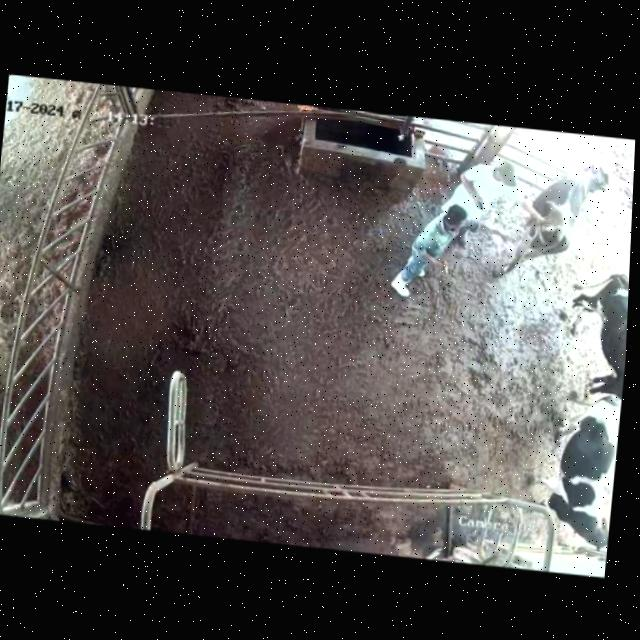stand: (530, 387, 622, 556), (550, 255, 630, 439)
